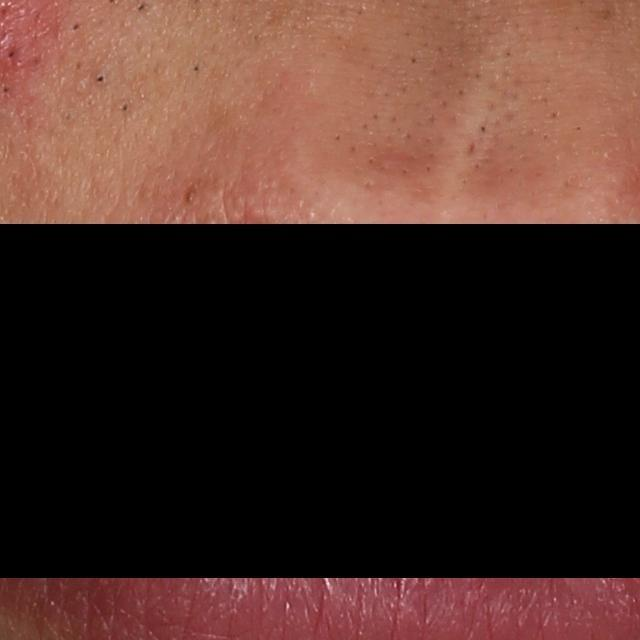other: (434, 22, 525, 200)
